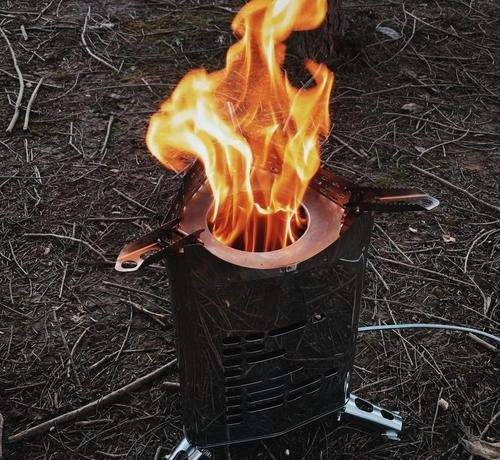fire: (146, 0, 341, 258)
